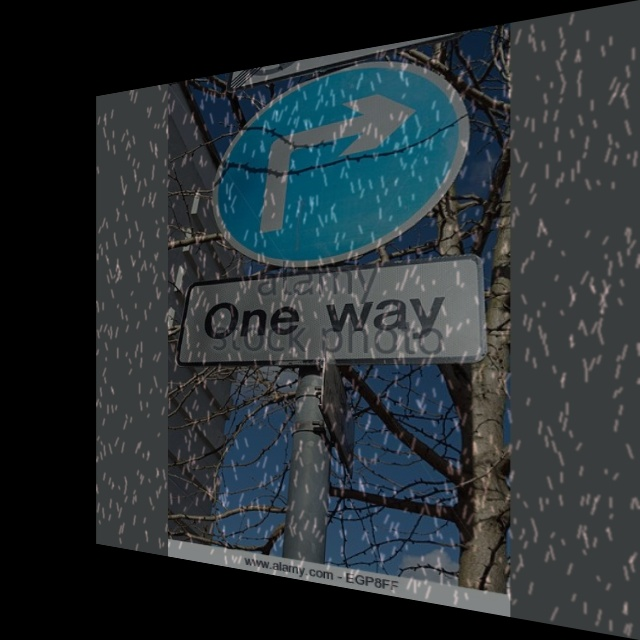Compulsory_Turn_Right_Ahead: (212, 46, 466, 262)
